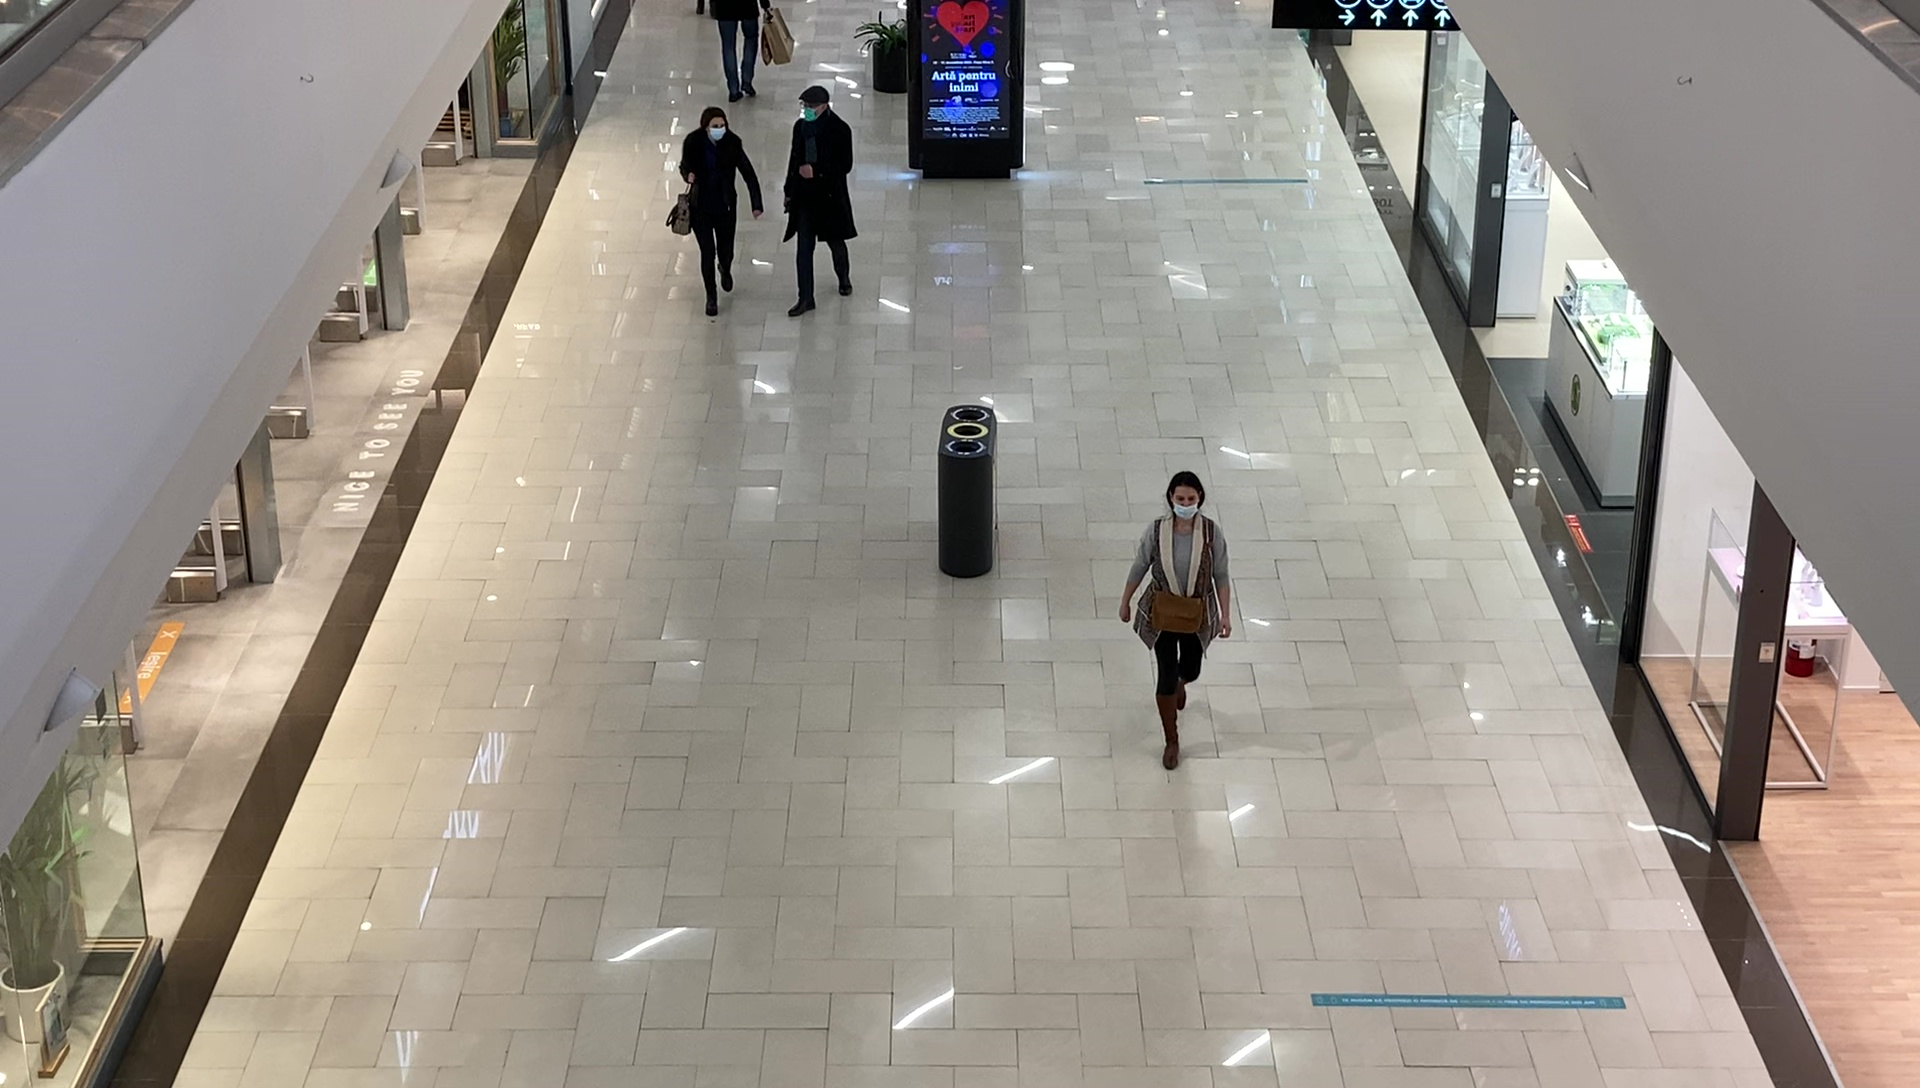person: (1121, 469, 1234, 773), (670, 106, 763, 316), (781, 87, 860, 319)
